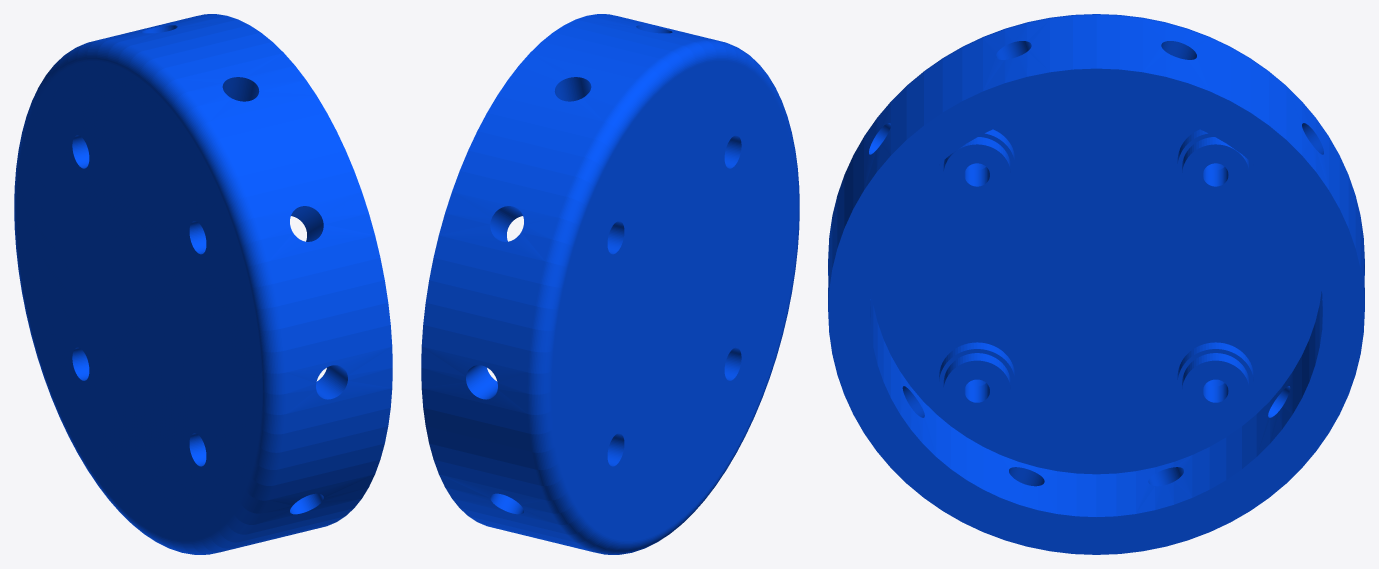
File: endeffector_visual.dae
The picture shows the model from 3 angles, left to right: view 1: azimuth 30°, elevation 25°; view 2: azimuth 150°, elevation 25°; view 3: azimuth 270°, elevation 25°; orthographic projection.
Parts seen in each view (by area): view 1: endeffector_visual.001; view 2: endeffector_visual.001; view 3: endeffector_visual.001.
Part boxes in pixels (box(x1,y1,x2,y2)): endeffector_visual.001: box(14, 14, 392, 554); endeffector_visual.001: box(421, 14, 799, 554); endeffector_visual.001: box(828, 14, 1364, 554).
Size of the model in its own units: 0.024 by 0.09 by 0.09.
